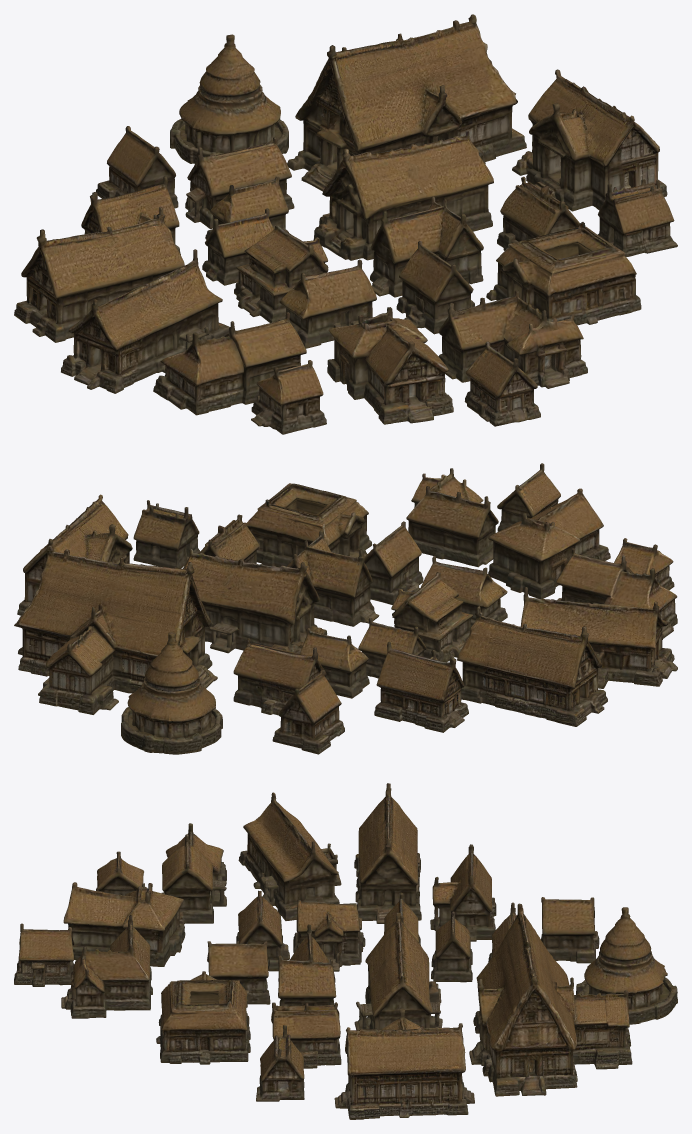
Rendered from Classical Town (Western).fbx.
3 views of the same model, one above another, from view 1: azimuth 30°, elevation 25°; view 2: azimuth 150°, elevation 25°; view 3: azimuth 270°, elevation 25° (orthographic). The views are drawn at different scales.
Visible parts, largest first — view 1: tripo_node_183b5596; view 2: tripo_node_183b5596; view 3: tripo_node_183b5596.
Boxes of the visible parts, box(x1,y1,x2,y2) form: tripo_node_183b5596: box(14, 14, 677, 434); tripo_node_183b5596: box(14, 463, 677, 754); tripo_node_183b5596: box(14, 783, 677, 1119).
Size of the model in its own units: 0.9512 by 0.1946 by 1.
